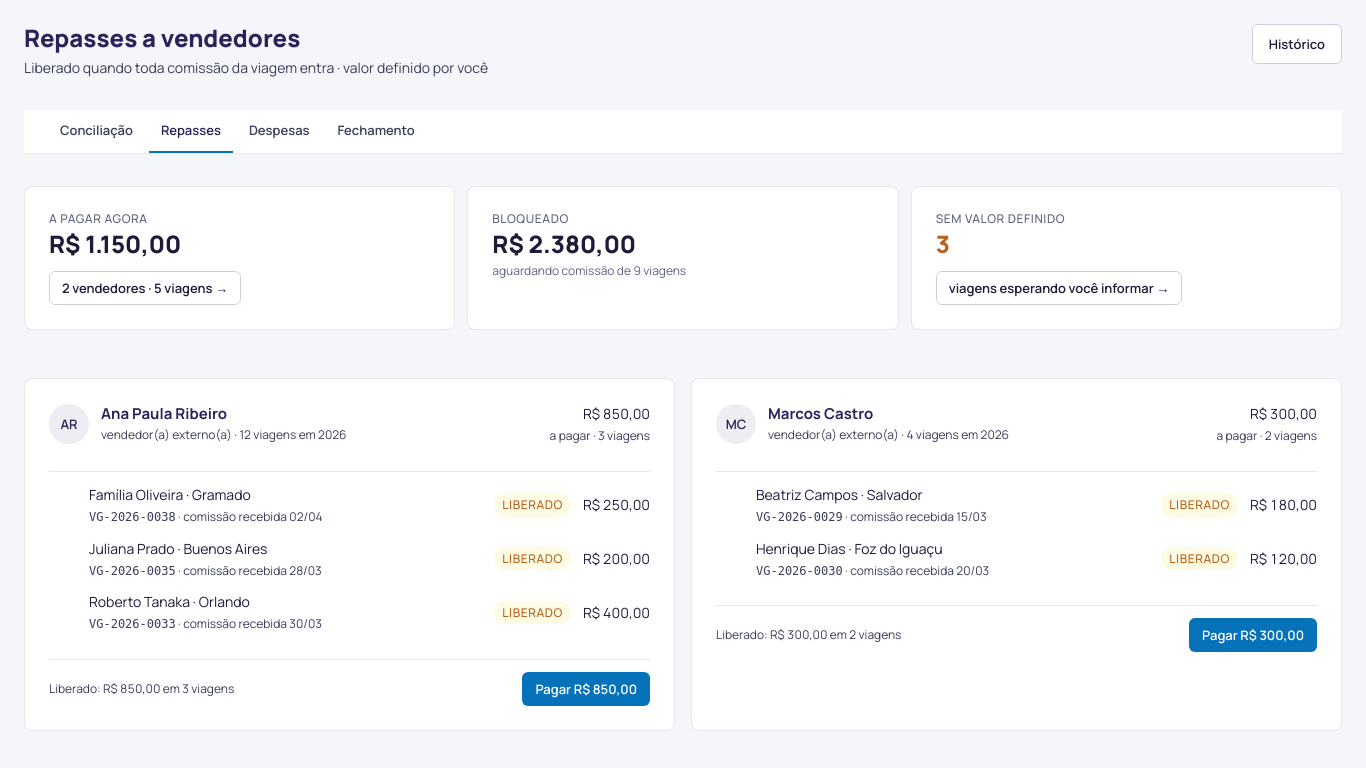
Histórico refaz a busca com ?pagos= na URL
This screenshot has width=1366, height=768.
Expected: the text "Ana Paula Ribeiro" is shown, [101, 403, 227, 424]
Step 1. Click the button "Histórico" → [1297, 44], box [1252, 24, 1342, 64]
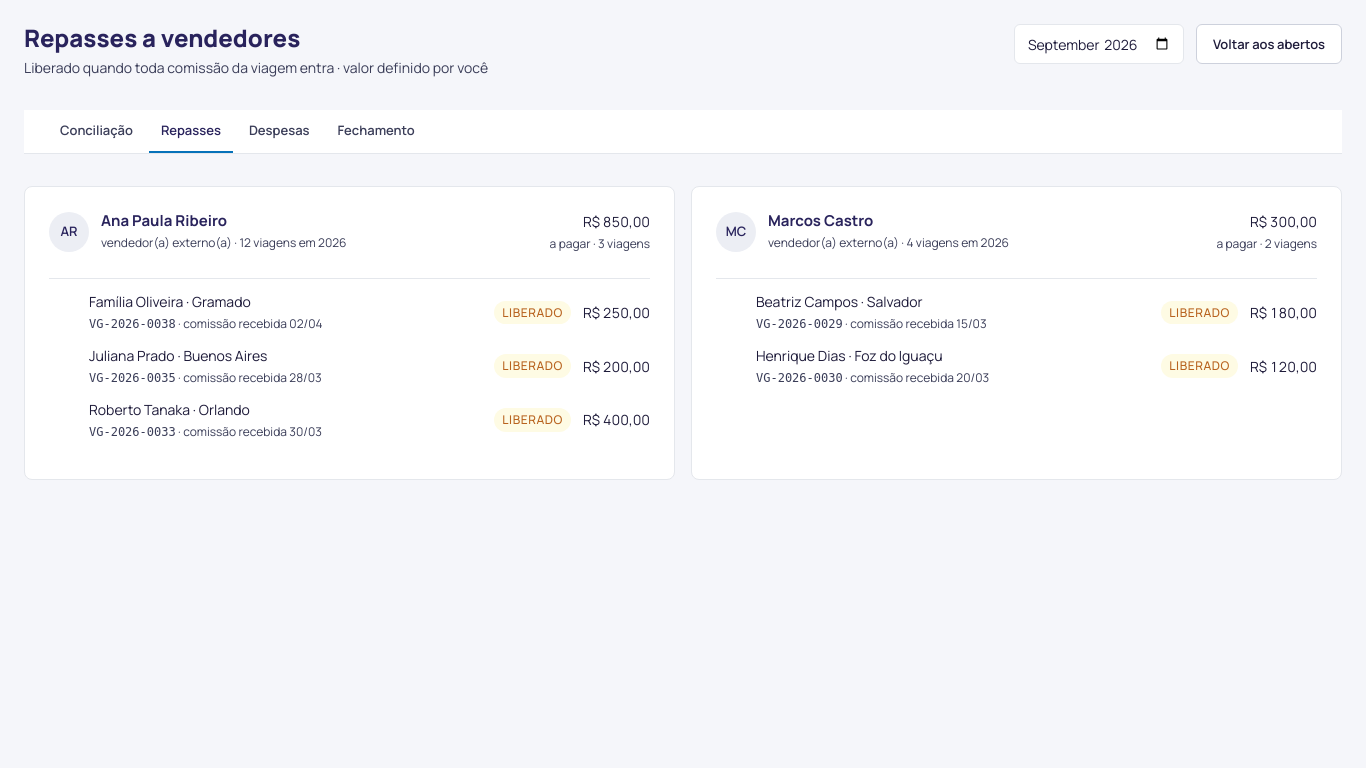
Expected: the button "Voltar aos abertos" is shown, [1196, 24, 1342, 64]
